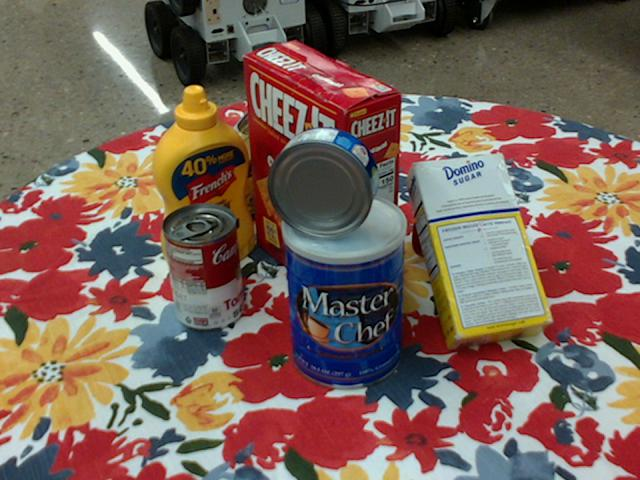cracker_box: (244, 41, 402, 311)
gelatin_box: (291, 128, 370, 207)
large_marker: (231, 83, 283, 139)
master_chef_can: (281, 193, 405, 392)
mug: (408, 159, 500, 265)
mustard_bottle: (151, 87, 253, 274)
potted_meat_can: (206, 126, 300, 227)
sugar_box: (404, 153, 553, 353)
tomato_soup_can: (161, 203, 243, 331)
tuna_fish_can: (268, 127, 379, 239)
